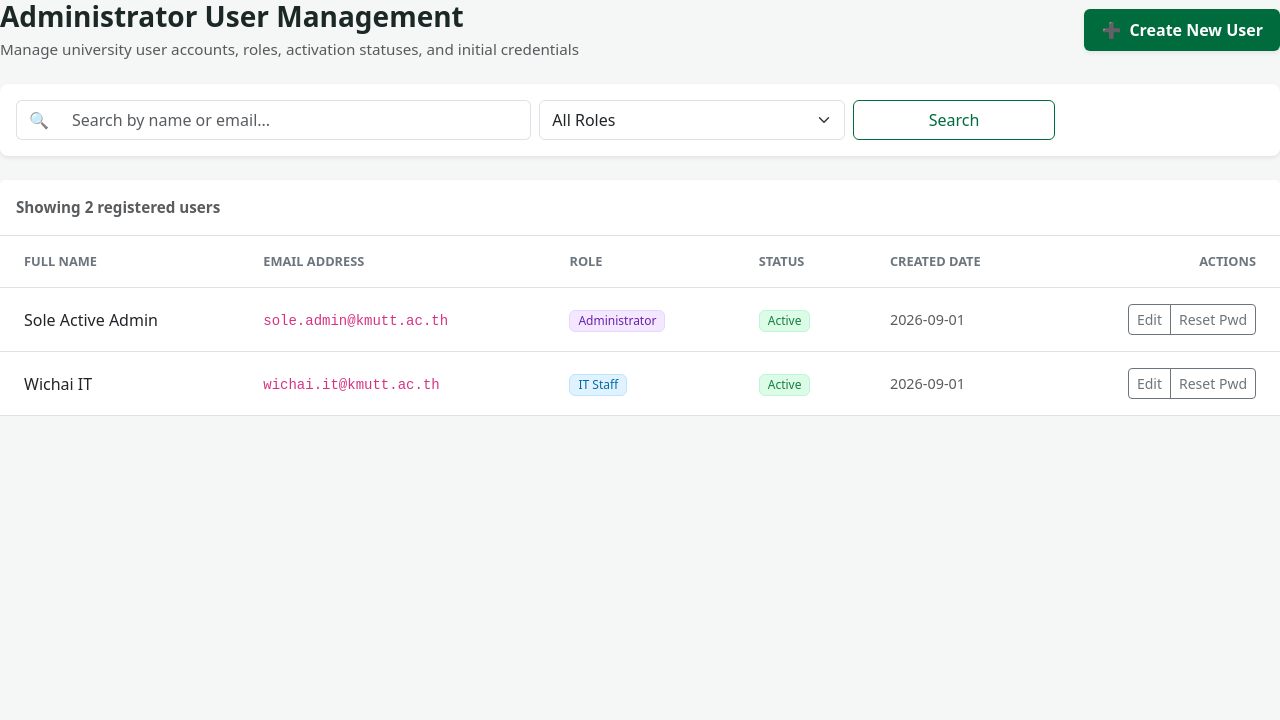
Test: UserManagement Component Suite (Issue 15) › UI-ADM-04: disables Active toggle and Role dropdown when editing sole remaining active admin
Click the button with test id "btn-edit-user-2" at (1150,320), box [1128,304,1171,335]
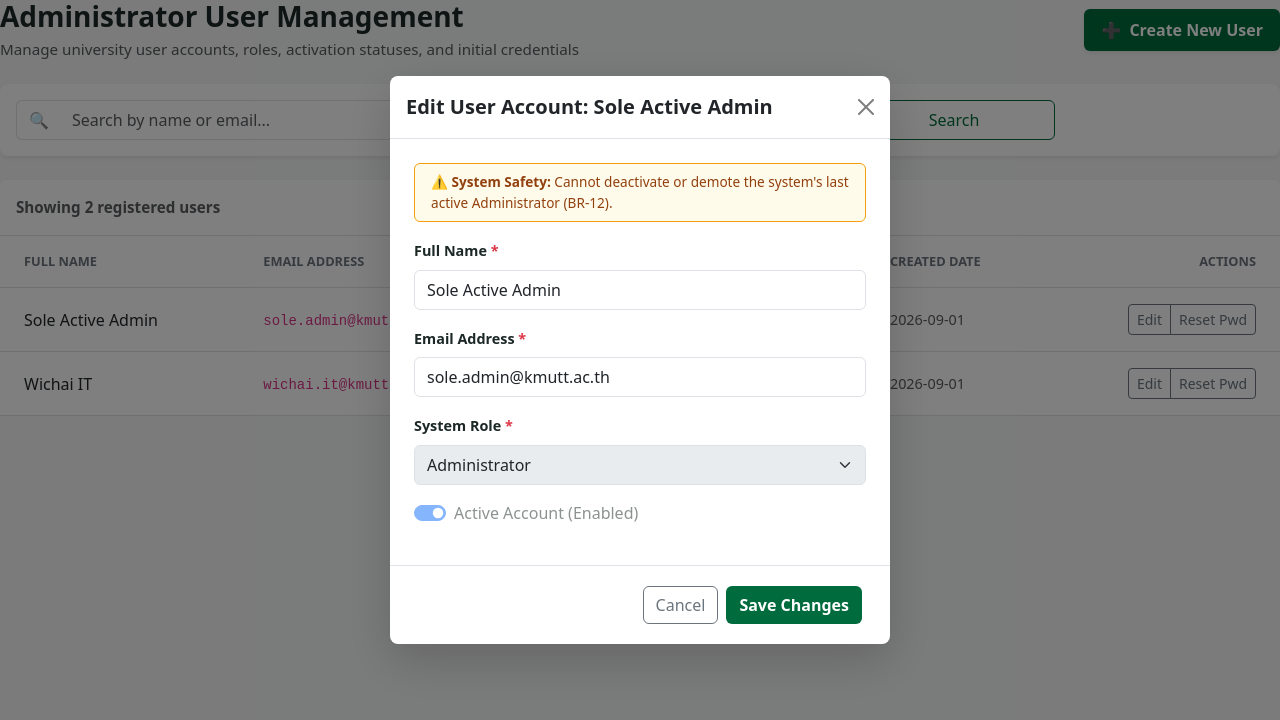
Result: the element with test id "last-admin-warning" is shown at [414,163,866,222]
Result: the element with test id "last-admin-warning" shows "Cannot deactivate or demote the system's last active Administrator" at [431,172,849,212]
Result: the checkbox with test id "toggle-edit-active" is disabled at [414,505,446,521]
